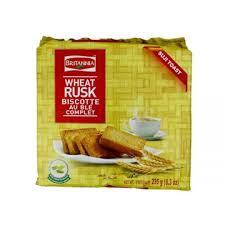Britania-toast-med: (36, 35, 194, 189)
